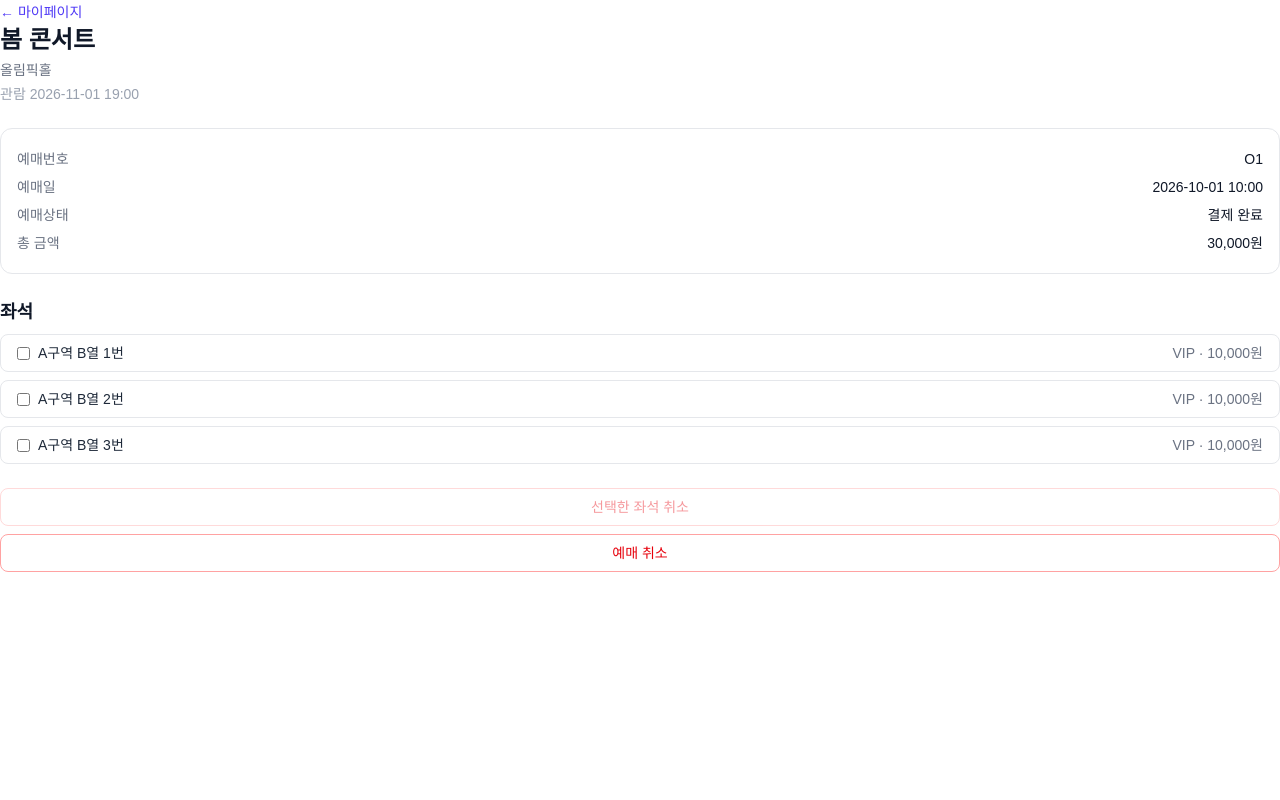
Test case: 좌석을 골라 부분 취소하면 그 itemSeq 만 보내고 다시 불러온다
Expected: the heading "봄 콘서트" is shown, [0,26,95,53]
Expected: the button "선택한 좌석 취소" is disabled, [0,488,1279,526]
Click the checkbox labelled "A구역 B열 2번": (24,399) [17,392,30,406]
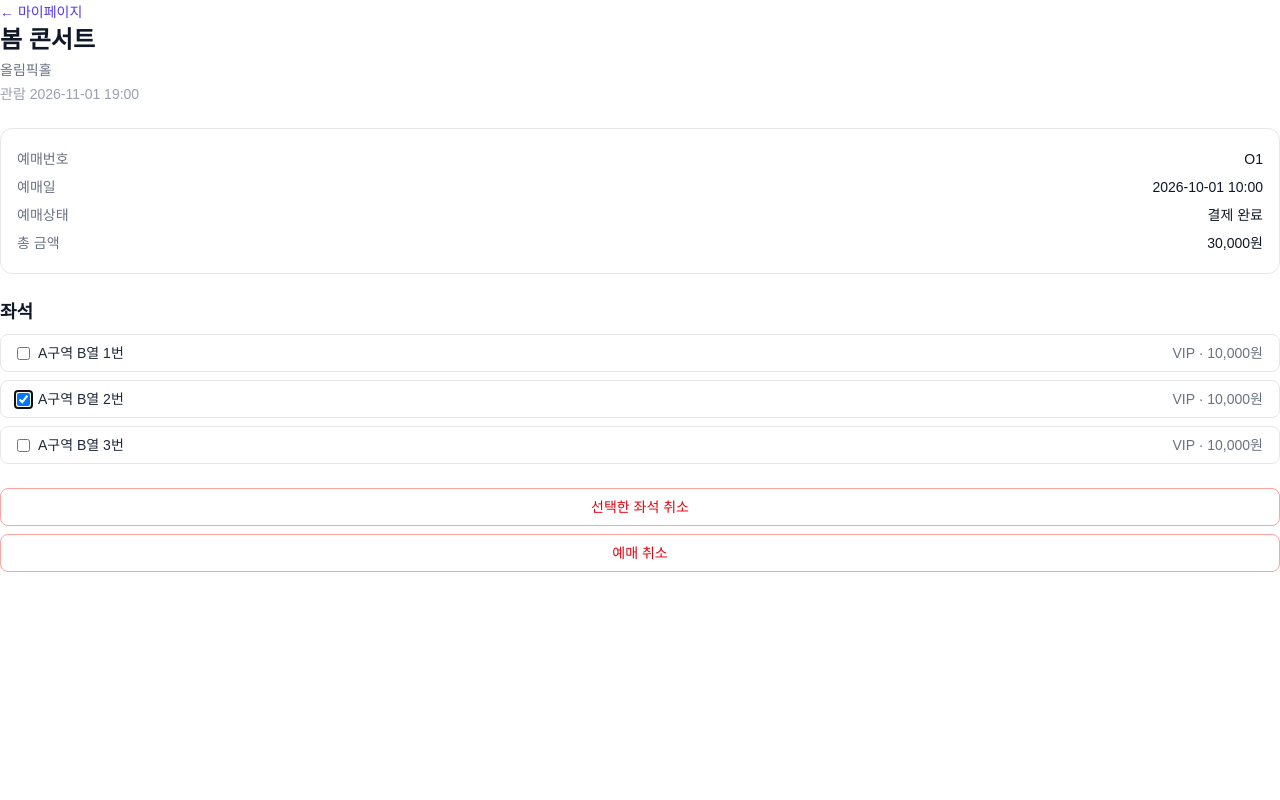
Click the button "선택한 좌석 취소": (640,507) [0,488,1279,526]
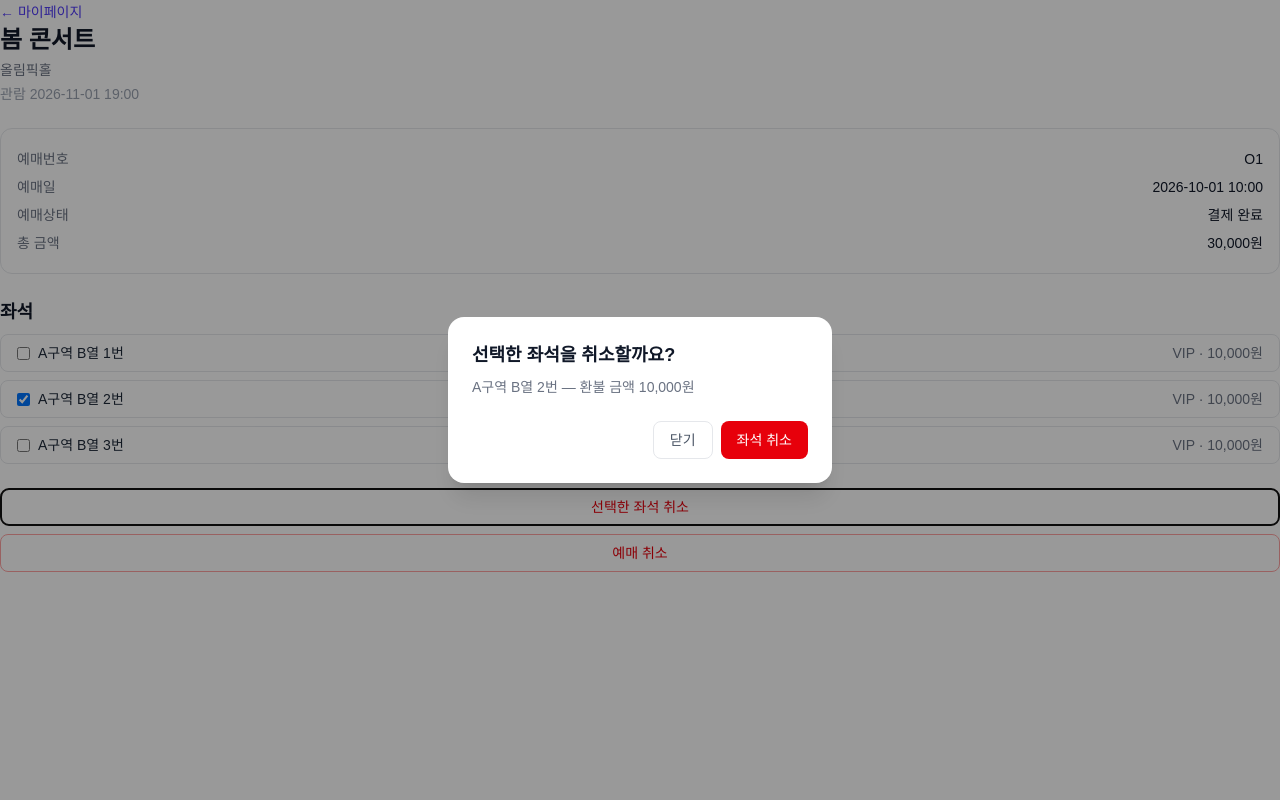
Result: the text "A구역 B열 2번 — 환불 금액 10,000원" is shown at [472,379,694,395]
Click the button "좌석 취소": (764,440) [721,421,808,459]
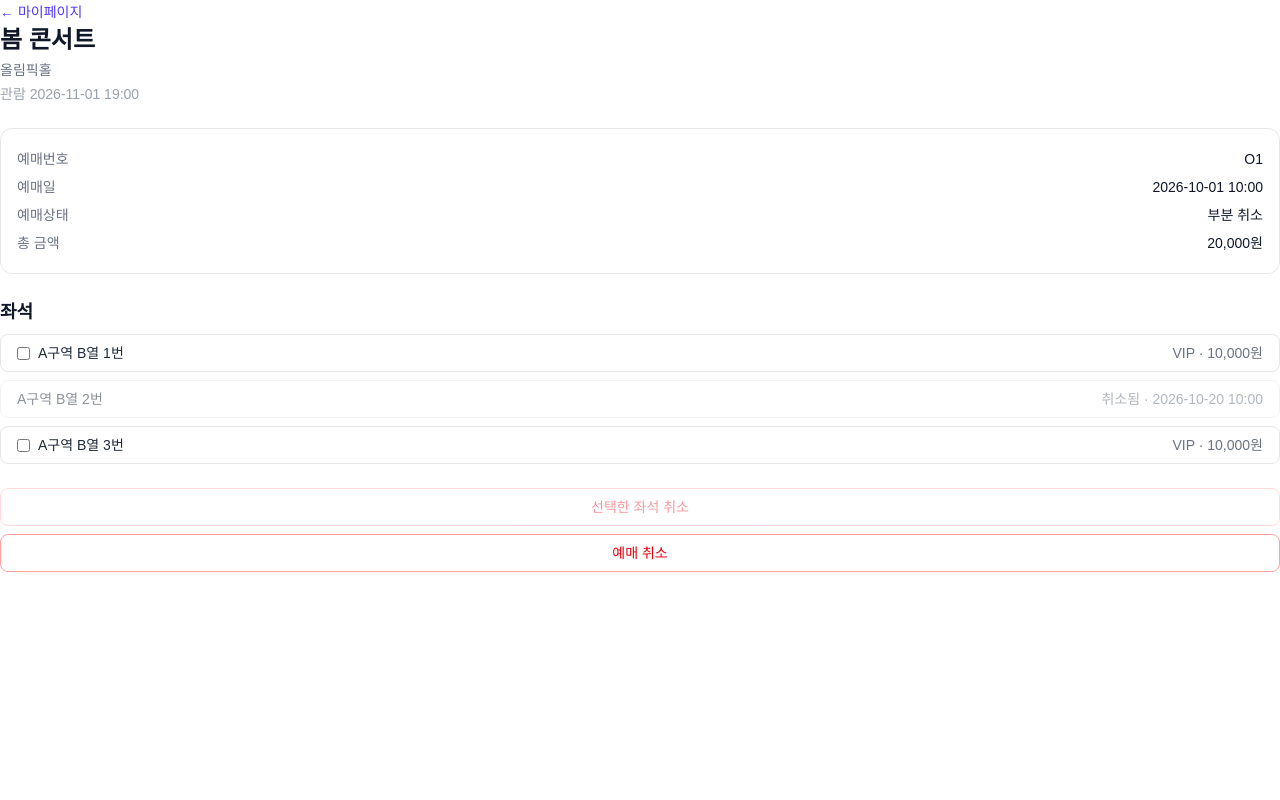
Result: the text "부분 취소" is shown at [1208,205,1263,225]
Result: the text "20,000원" is shown at [1207,233,1263,253]
